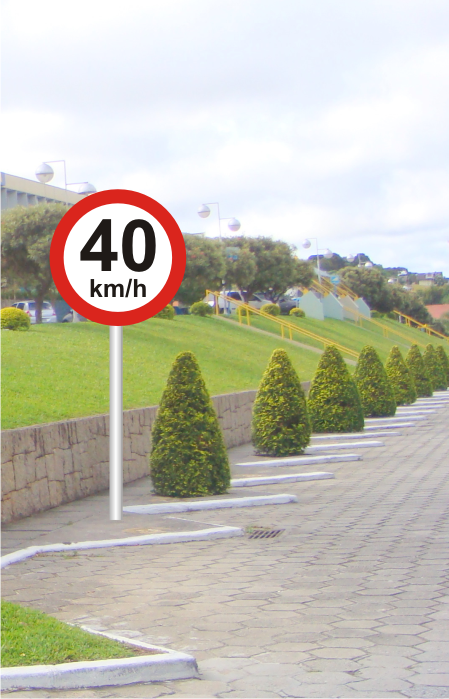40 Km/hr: (49, 188, 187, 325)
